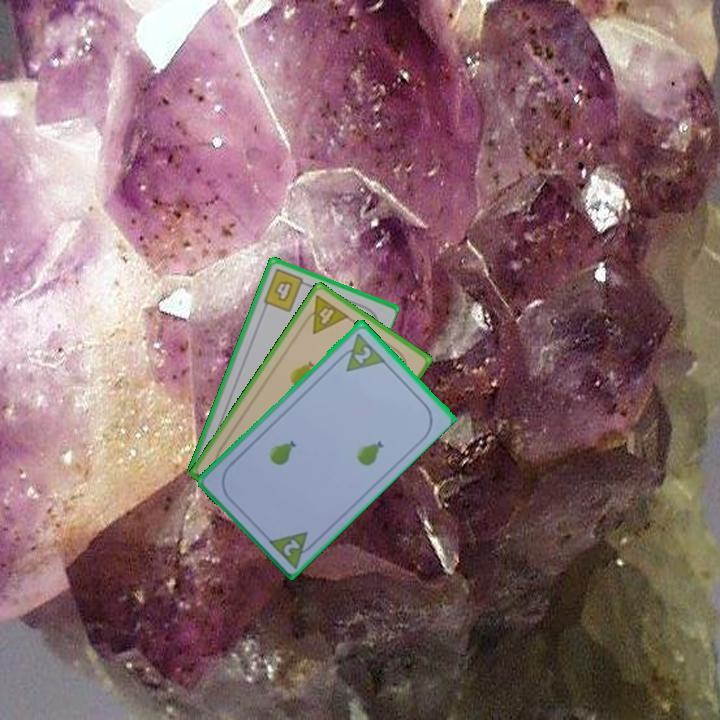2p: (264, 527, 320, 571), (350, 342, 374, 366)
4b: (260, 265, 311, 315)
4p: (298, 291, 352, 337)
